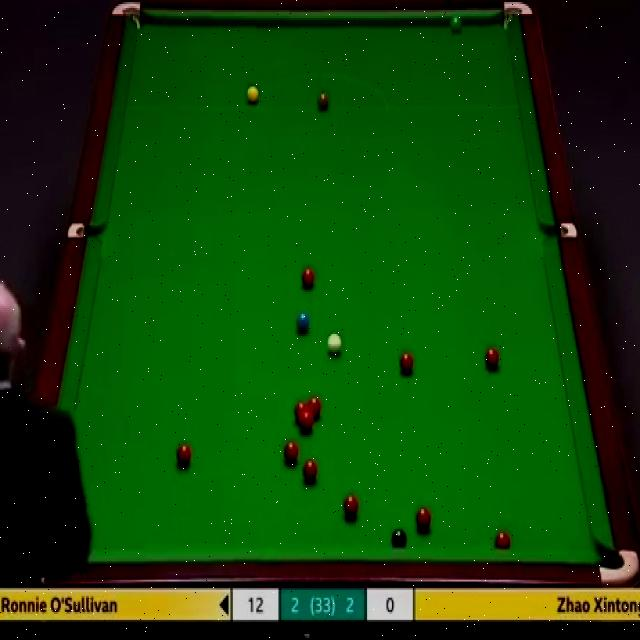black-ball: (389, 527, 406, 550)
blue-ball: (294, 310, 310, 335)
brown-ball: (316, 89, 330, 112)
green-ball: (449, 13, 465, 32)
red-ball: (398, 349, 416, 377), (301, 458, 318, 486), (175, 440, 192, 467), (414, 506, 431, 533), (341, 493, 358, 520), (283, 438, 299, 464), (484, 345, 500, 370), (300, 267, 316, 291), (308, 396, 322, 421), (495, 528, 511, 548), (294, 400, 308, 421), (300, 412, 313, 432)
white-ball: (326, 331, 344, 358)
yellow-ball: (244, 84, 259, 104)
